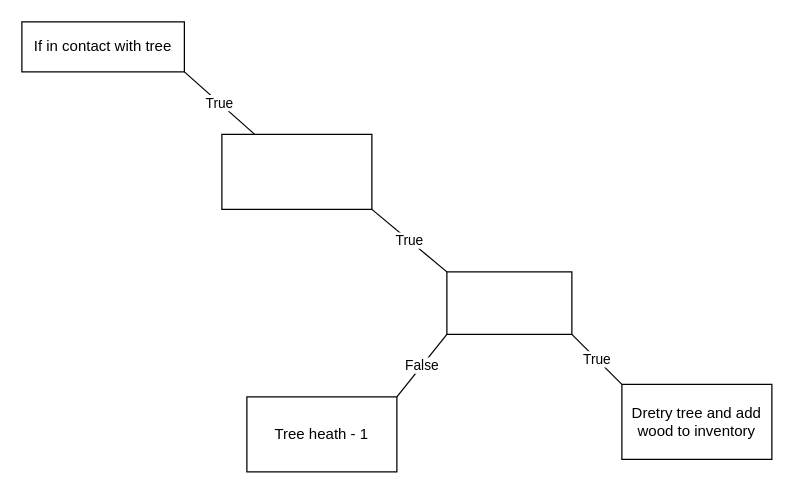
The diagram is 794 pixels wide and 494 high, and some of its shapes have lost their labels. Here are the shapes that lost their labels. From the top down, the centre of each, then its label:
the point at 296,171: If E pressed
the point at 509,302: if tree heath is 1
